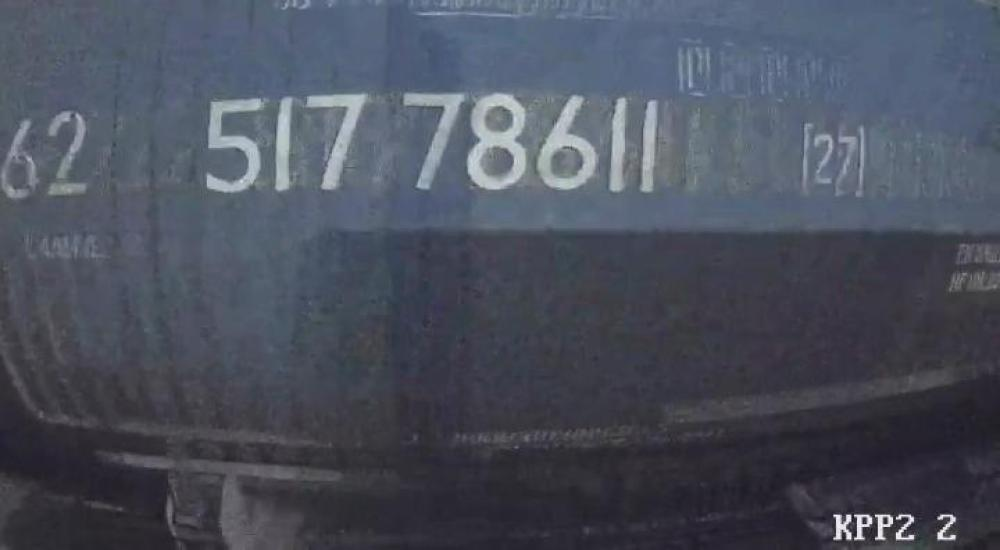Wagon-number: (200, 88, 670, 199)
